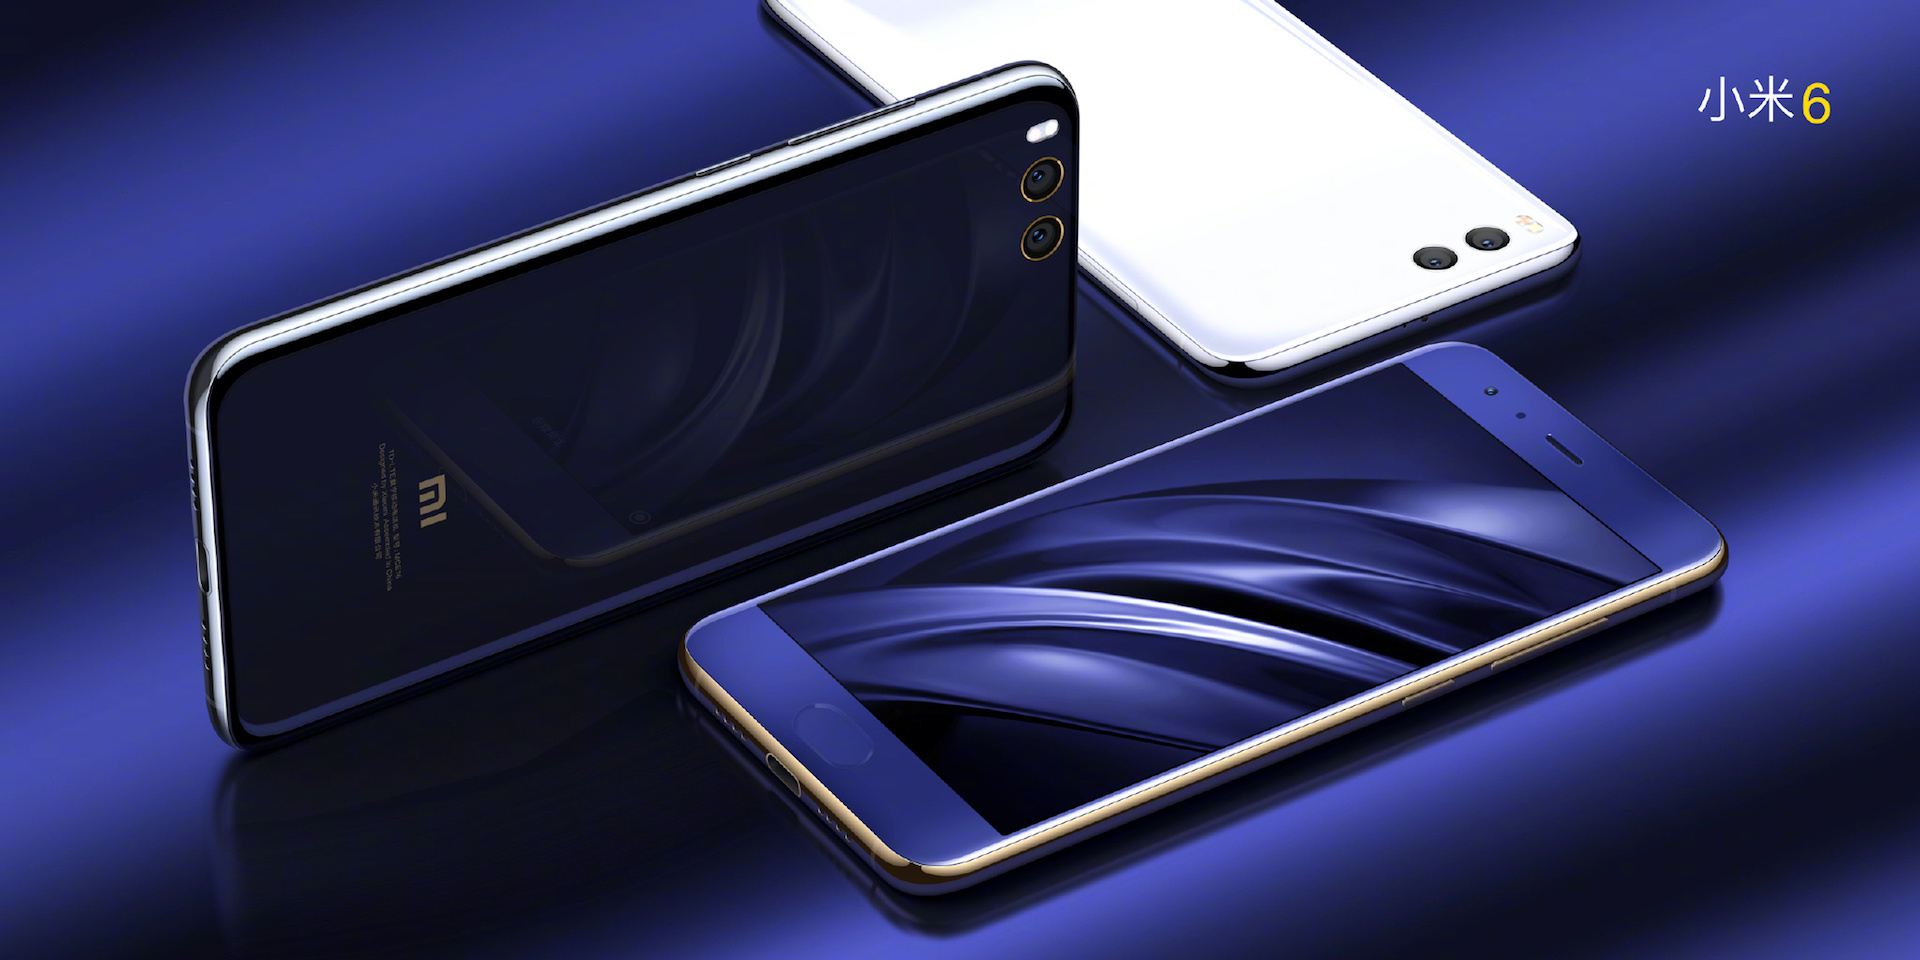smartphone: (179, 58, 1082, 760), (676, 338, 1735, 911), (756, 1, 1586, 402)
